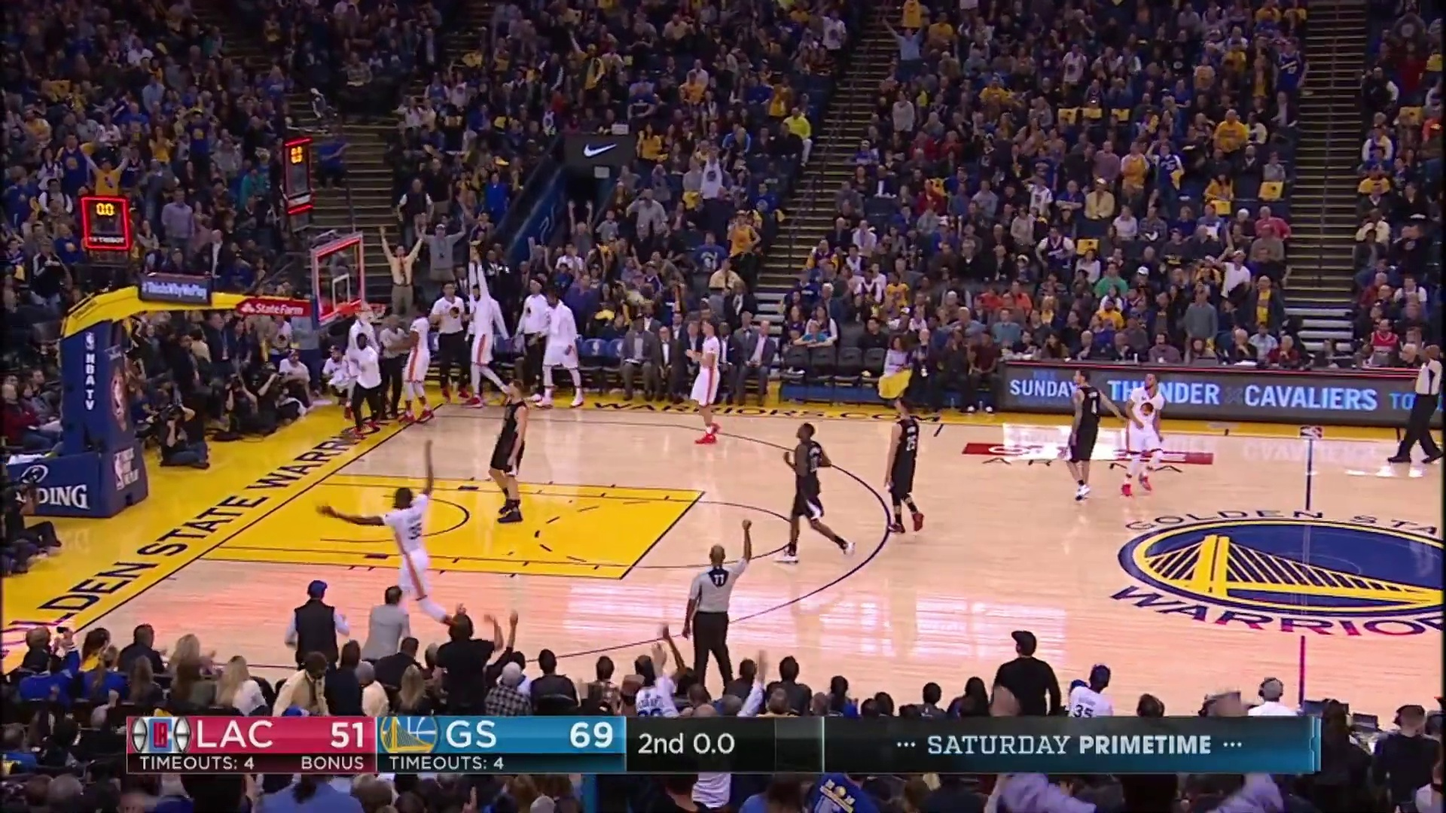basket_hoop: (288, 215, 424, 343)
